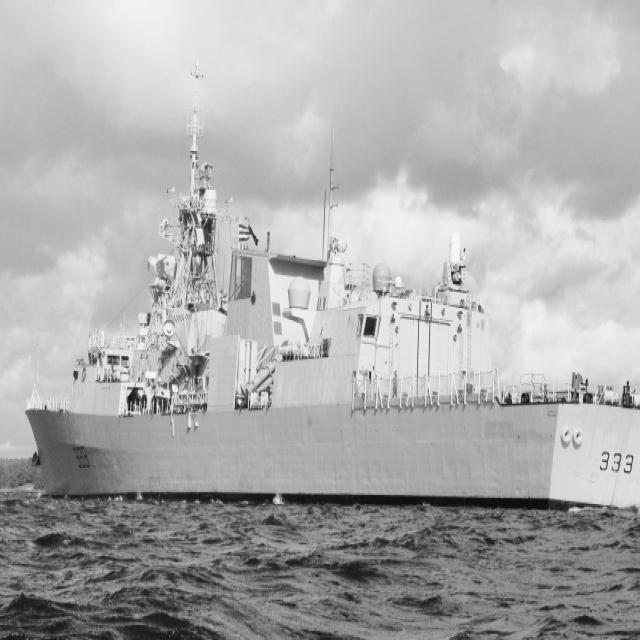Fragata: (17, 56, 640, 520)
